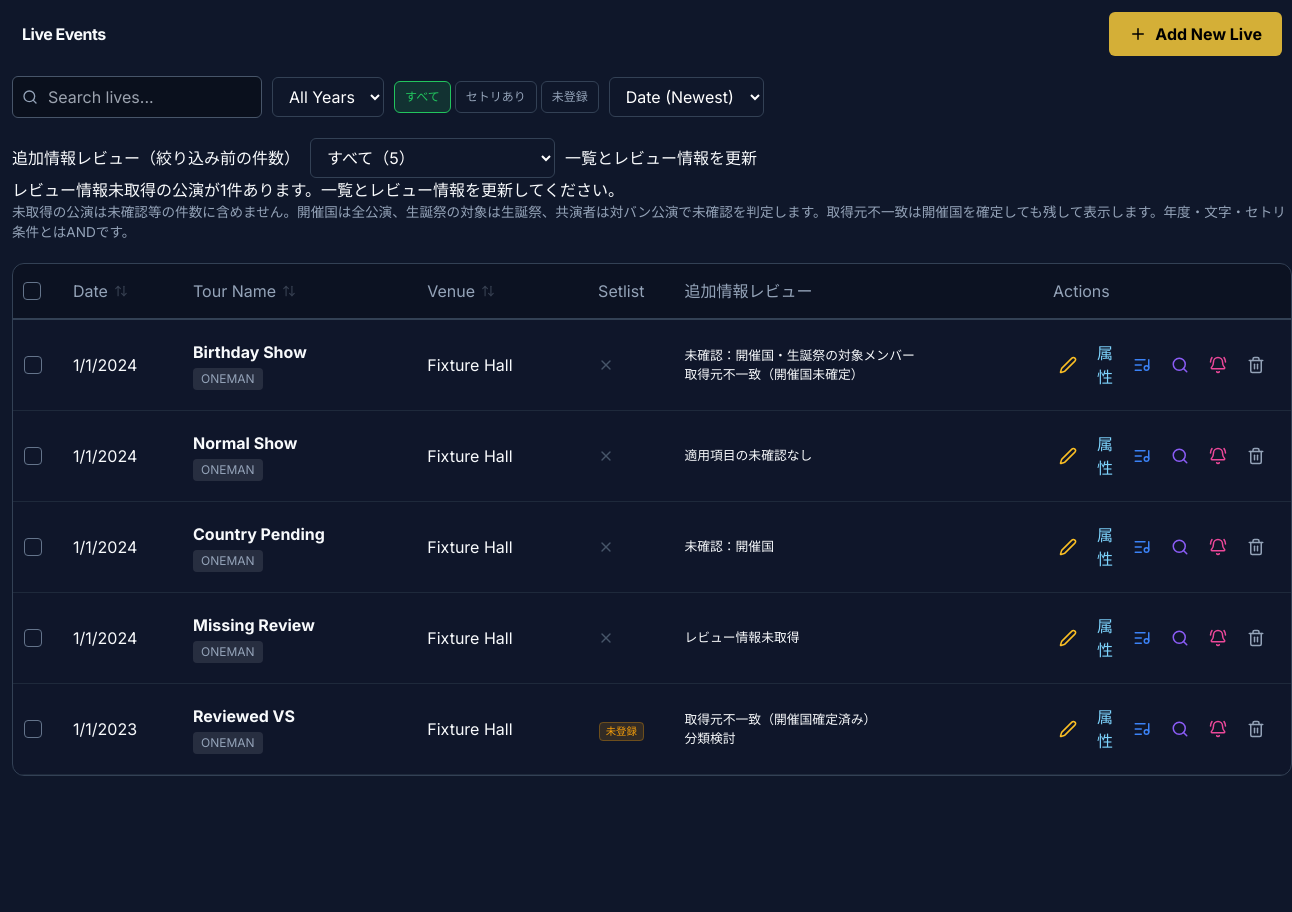
Test: 管理一覧の追加情報レビュー › レビュー条件は既存の文字・セトリ条件とAND
Select "取得元不一致（2）" in the dropdown labelled "追加情報レビュー": (432, 158) [310, 138, 555, 178]
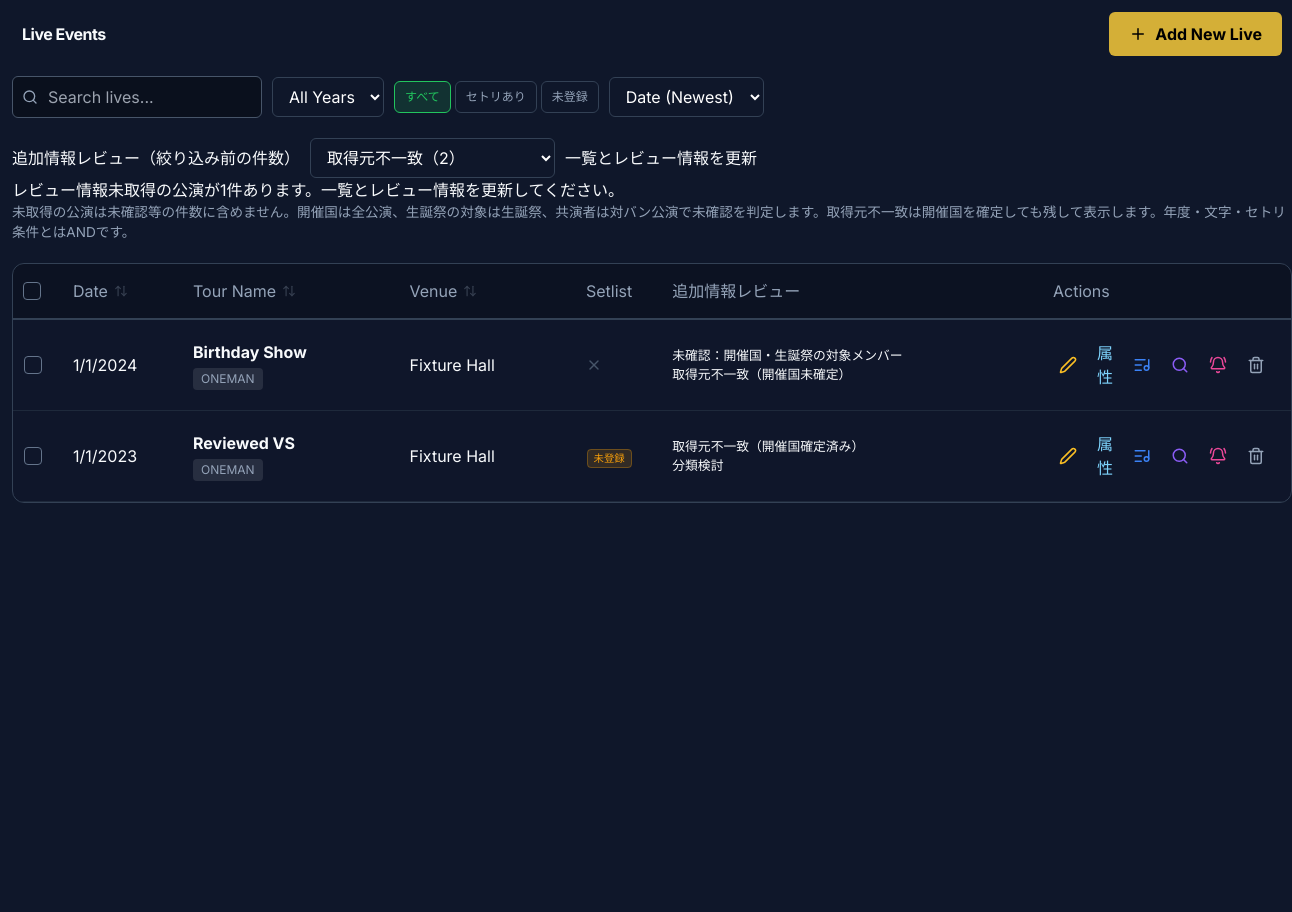
In the field with placeholder "Search lives...": (137, 97) [12, 76, 262, 118], type "Reviewed"
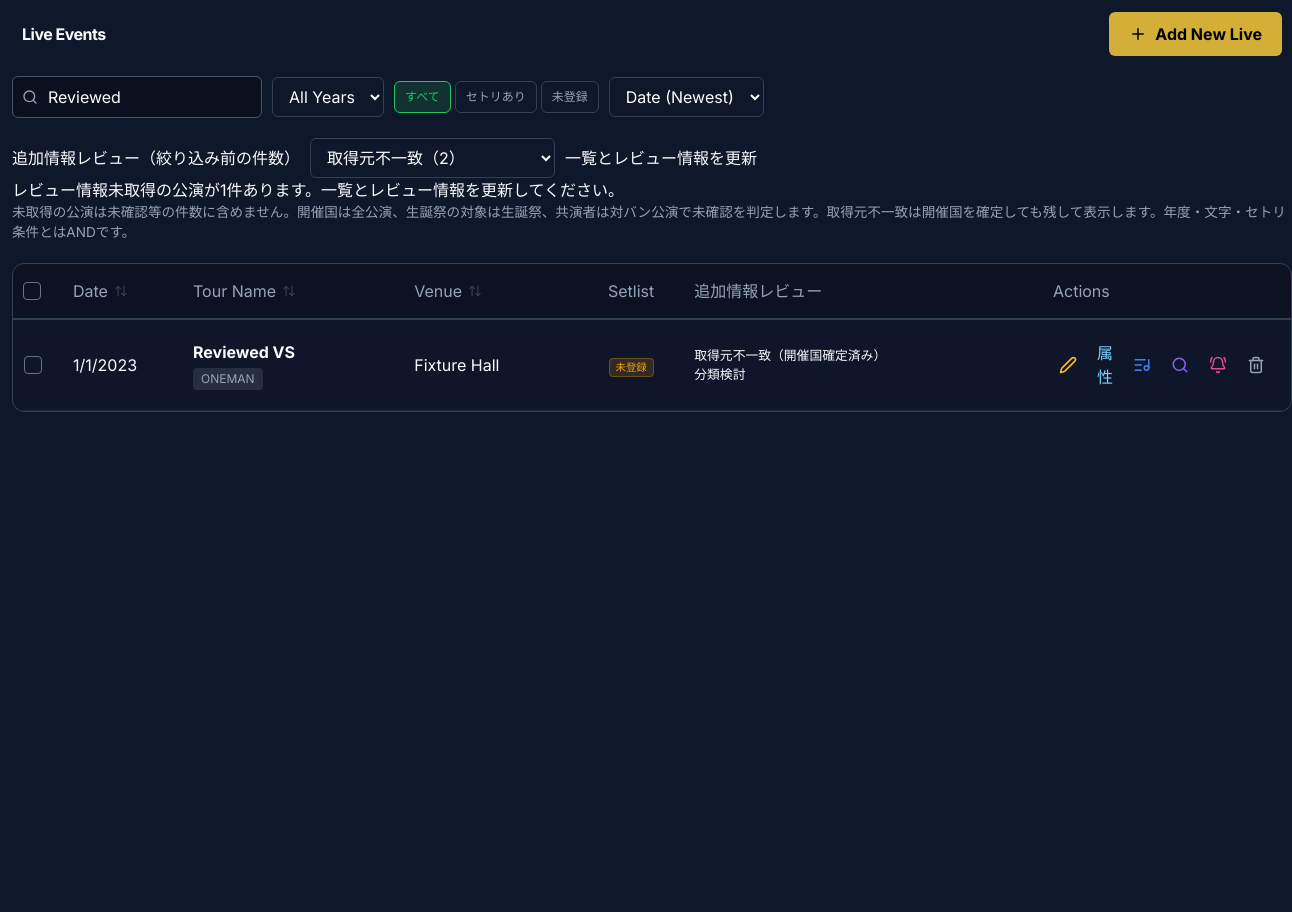
Click the button "セトリあり": (496, 97) [455, 81, 537, 113]
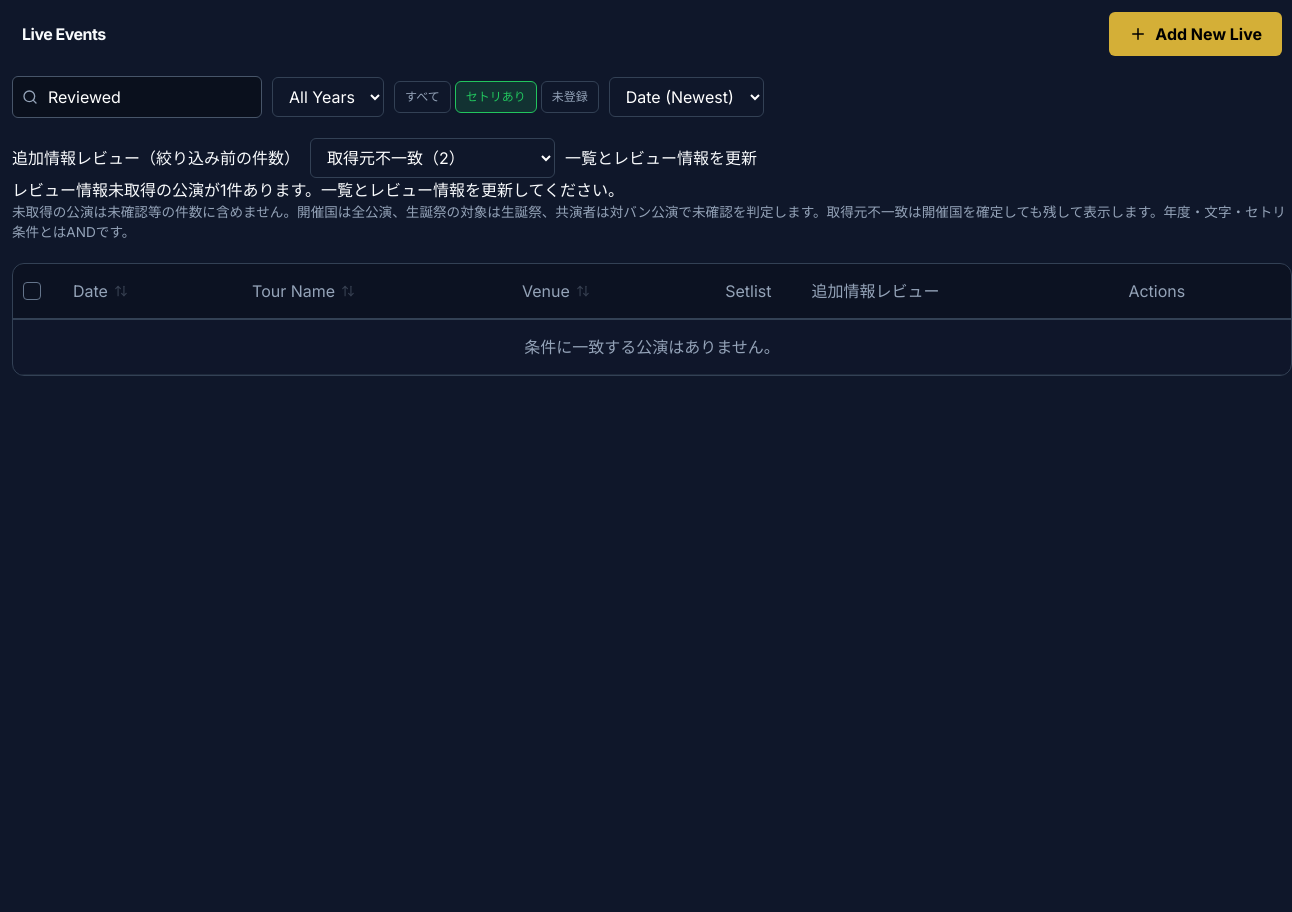
Expected: the text "条件に一致する公演はありません。" is shown, [13, 319, 1291, 374]
